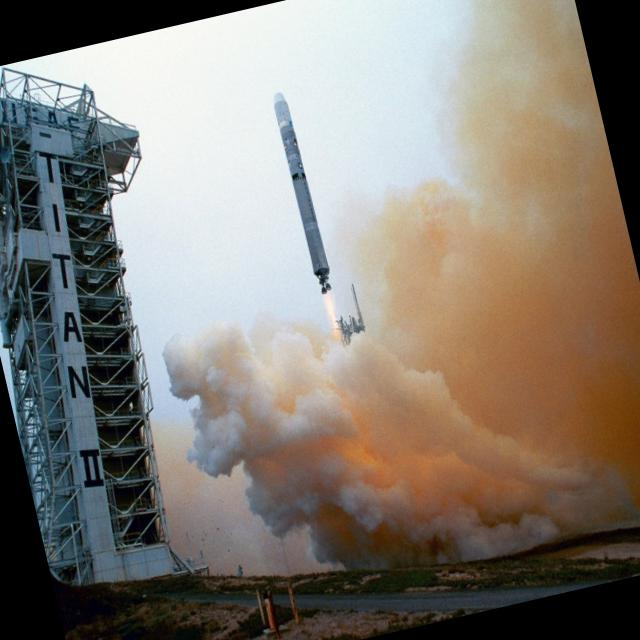rocket: (263, 81, 378, 401)
